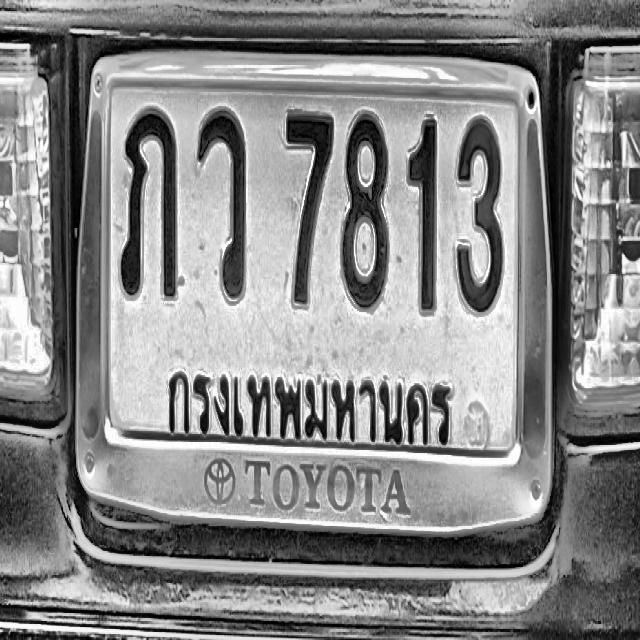license-plate: (71, 21, 556, 576)
